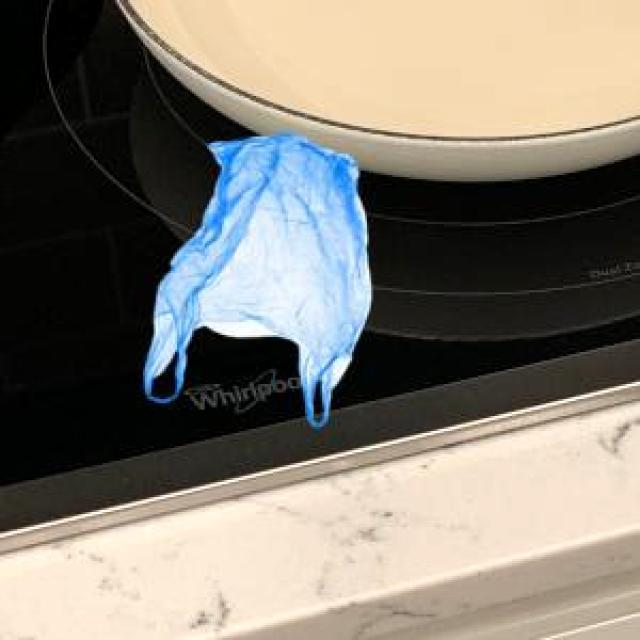Plastic_Bag: (142, 131, 368, 424)
